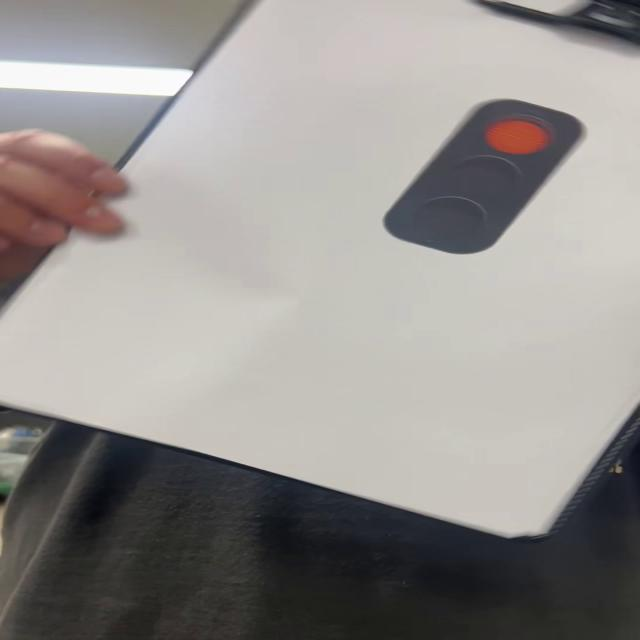red: (379, 99, 587, 258)
